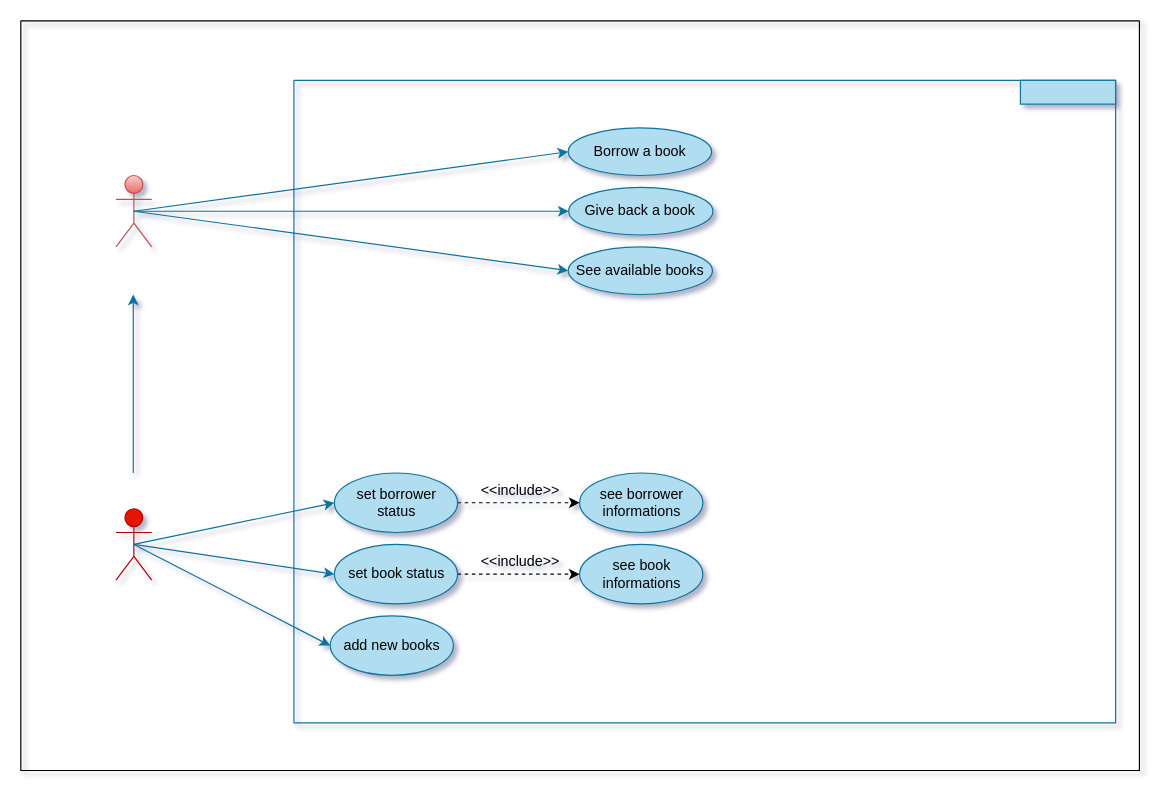
Some shapes in this 1167 by 798 pixel diagram are drawn without their labels. The shapes that lost their labels are listed below. From the top down, each one's centre as x and y in pixels, then its label:
the point at 1067,91: Library: UCD
the point at 133,210: <<user>>
the point at 133,544: <<library manager>>
